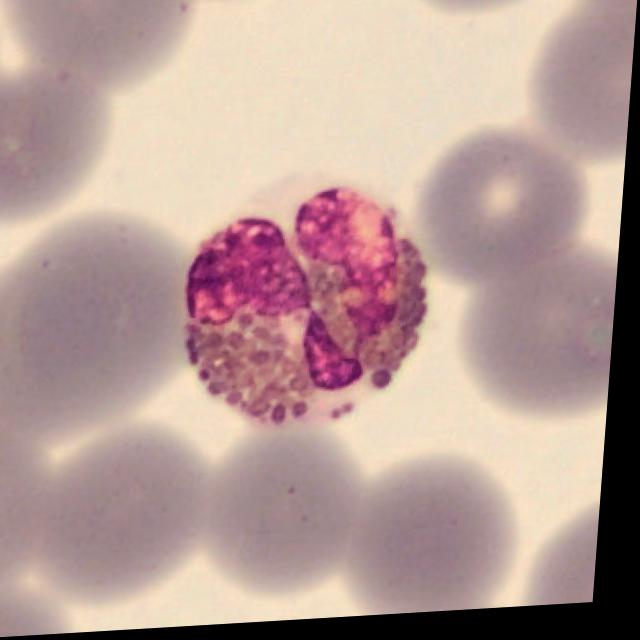Eosinofilo: (187, 191, 435, 431)
